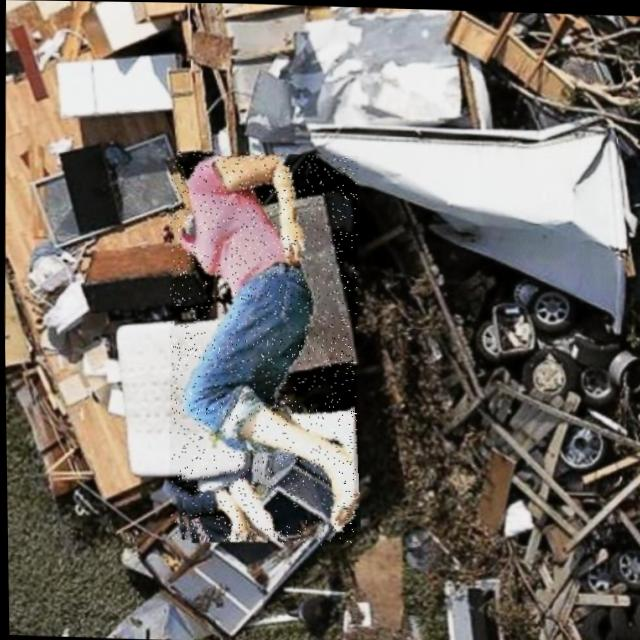Person in Rubble: (163, 148, 361, 544)
